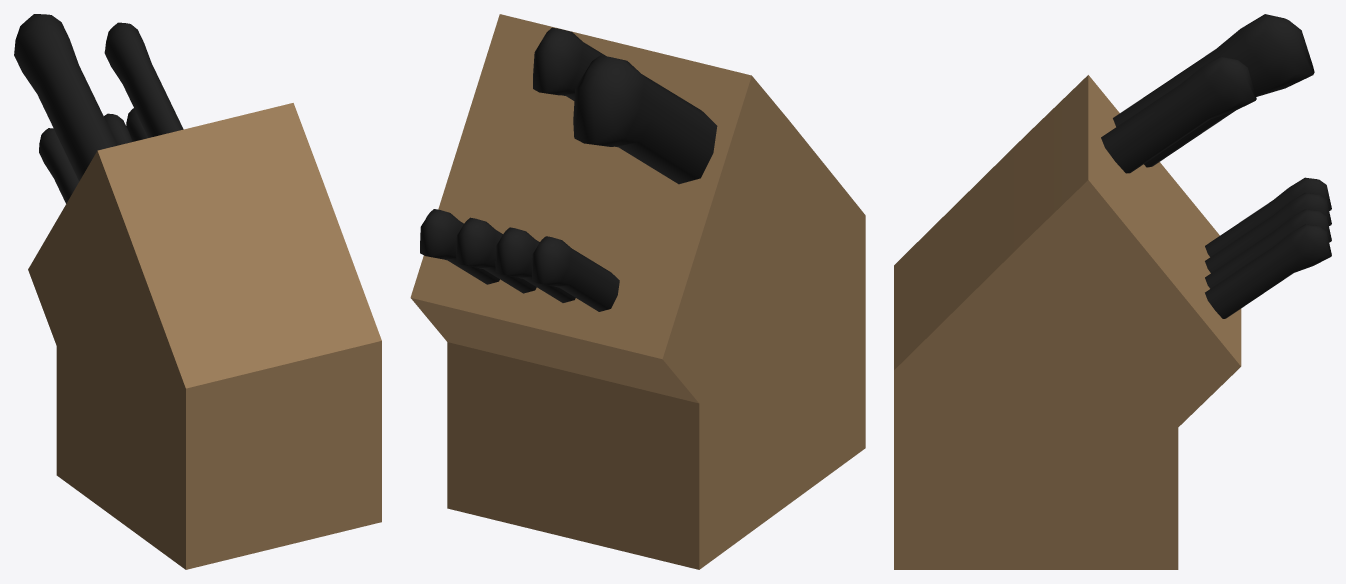
File: knife-block.glb
The picture shows the model from 3 angles, left to right: view 1: azimuth 30°, elevation 25°; view 2: azimuth 150°, elevation 25°; view 3: azimuth 270°, elevation 25°; orthographic projection. The views are drawn at different scales.
Parts seen in each view (by area): view 1: knife block set; view 2: knife block set; view 3: knife block set.
Boxes of the visible parts, x1,y1,x2,y2 form: knife block set: (14, 14, 381, 569); knife block set: (410, 14, 865, 569); knife block set: (894, 14, 1331, 569).
Size of the model in its own units: 0.205 by 0.4216 by 0.3606.
